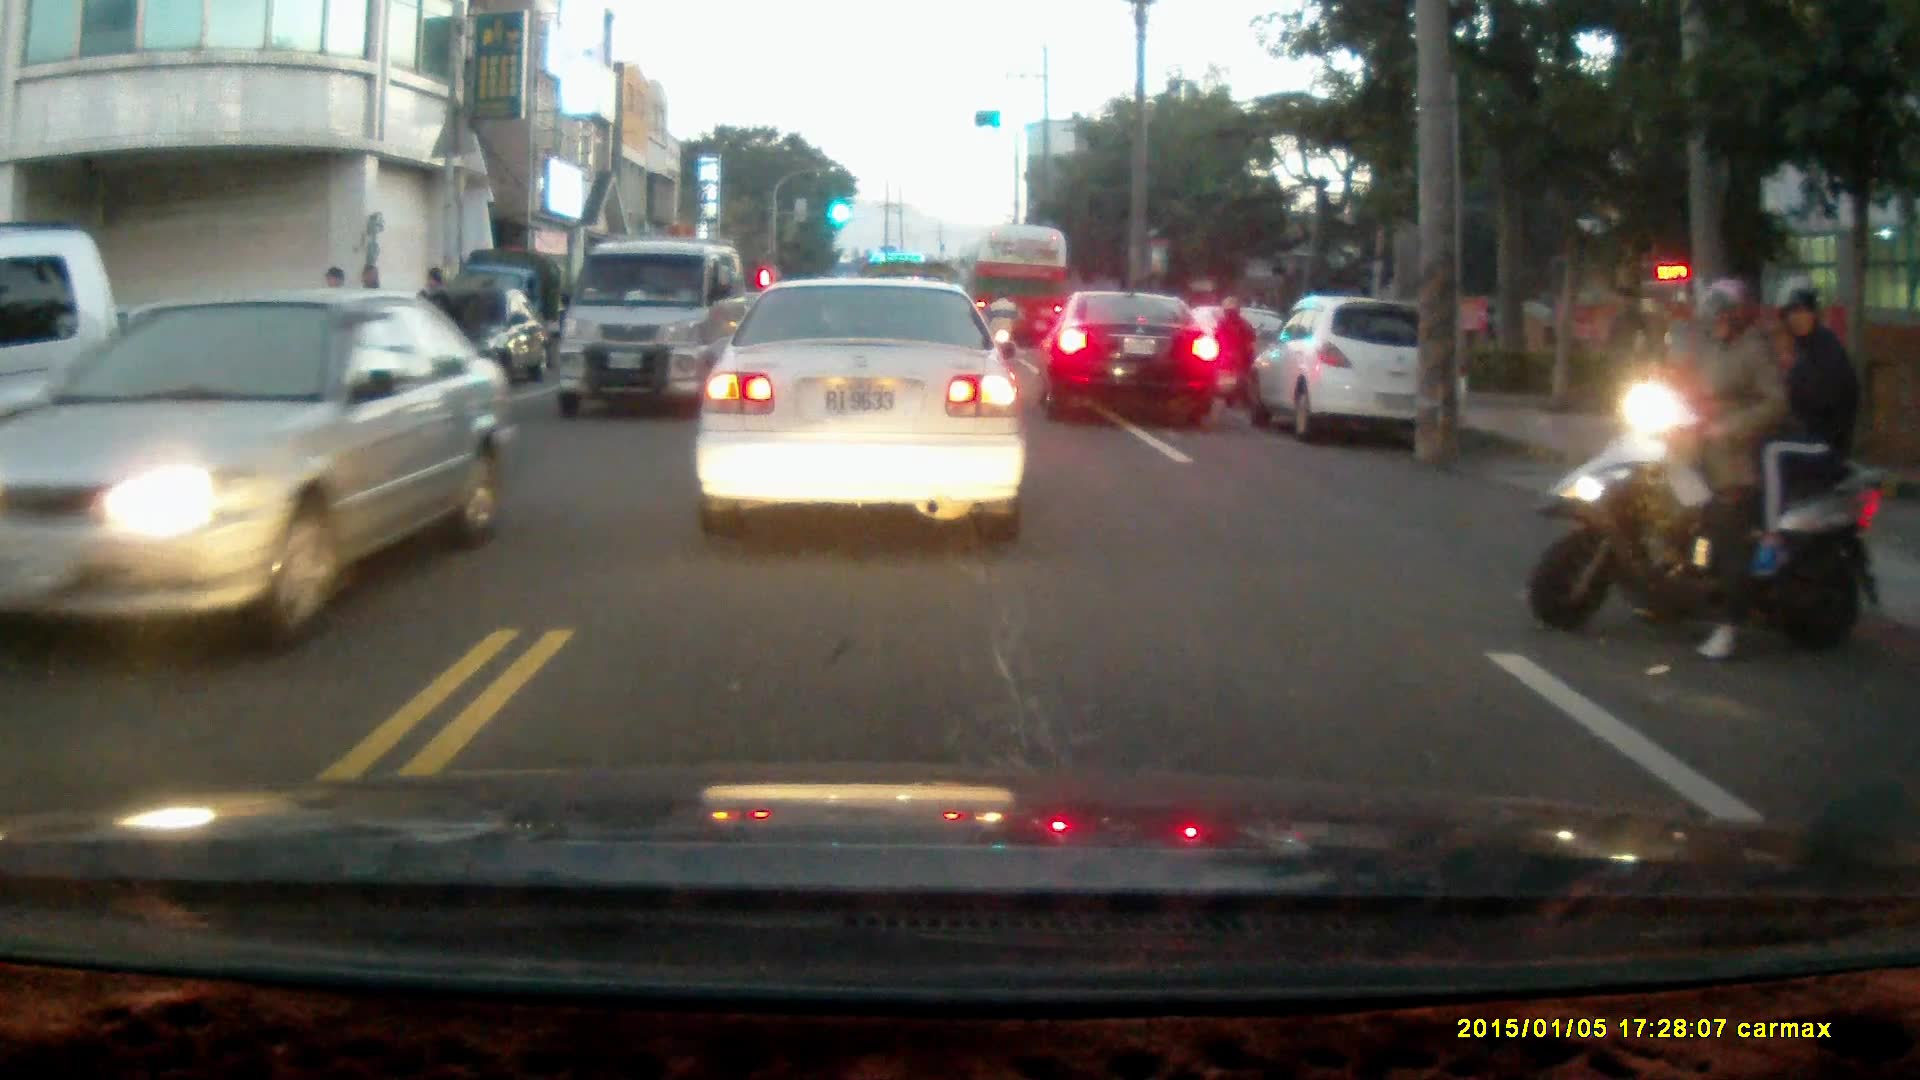pedestrian: (399, 267, 456, 413), (1604, 285, 1657, 415)
rider: (1530, 279, 1878, 670), (1209, 294, 1260, 410), (982, 289, 1021, 368)
vehicle: (1, 290, 526, 651), (691, 276, 1030, 548), (10, 301, 261, 475), (1, 225, 135, 515), (554, 239, 753, 421), (1245, 295, 1469, 443), (1038, 296, 1226, 432), (972, 224, 1072, 366)
